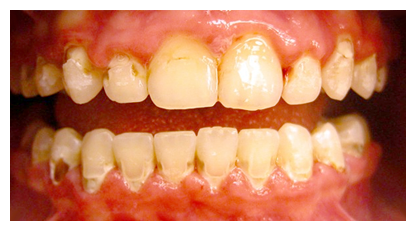LL1BC_healthy: (311, 123, 345, 171)
LL2BC_decay: (345, 115, 373, 161)
LLCI_decay: (195, 126, 238, 189)
LLC_healthy: (278, 123, 311, 191)
LLLI_healthy: (238, 126, 278, 191)
LR1BC_decay: (50, 126, 79, 187)
LRCI_decay: (154, 129, 195, 188)
LRC_decay: (79, 126, 116, 195)
LRLI_healthy: (116, 129, 154, 195)
UL1BC_healthy: (354, 52, 378, 105)
ULCI_healthy: (219, 34, 283, 112)
ULC_decay: (320, 37, 354, 106)
ULLI_decay: (283, 34, 320, 106)
UR1BC_decay: (33, 52, 65, 106)
URCI_healthy: (150, 33, 218, 111)
URC_decay: (65, 44, 104, 106)
URLI_decay: (103, 54, 150, 111)
